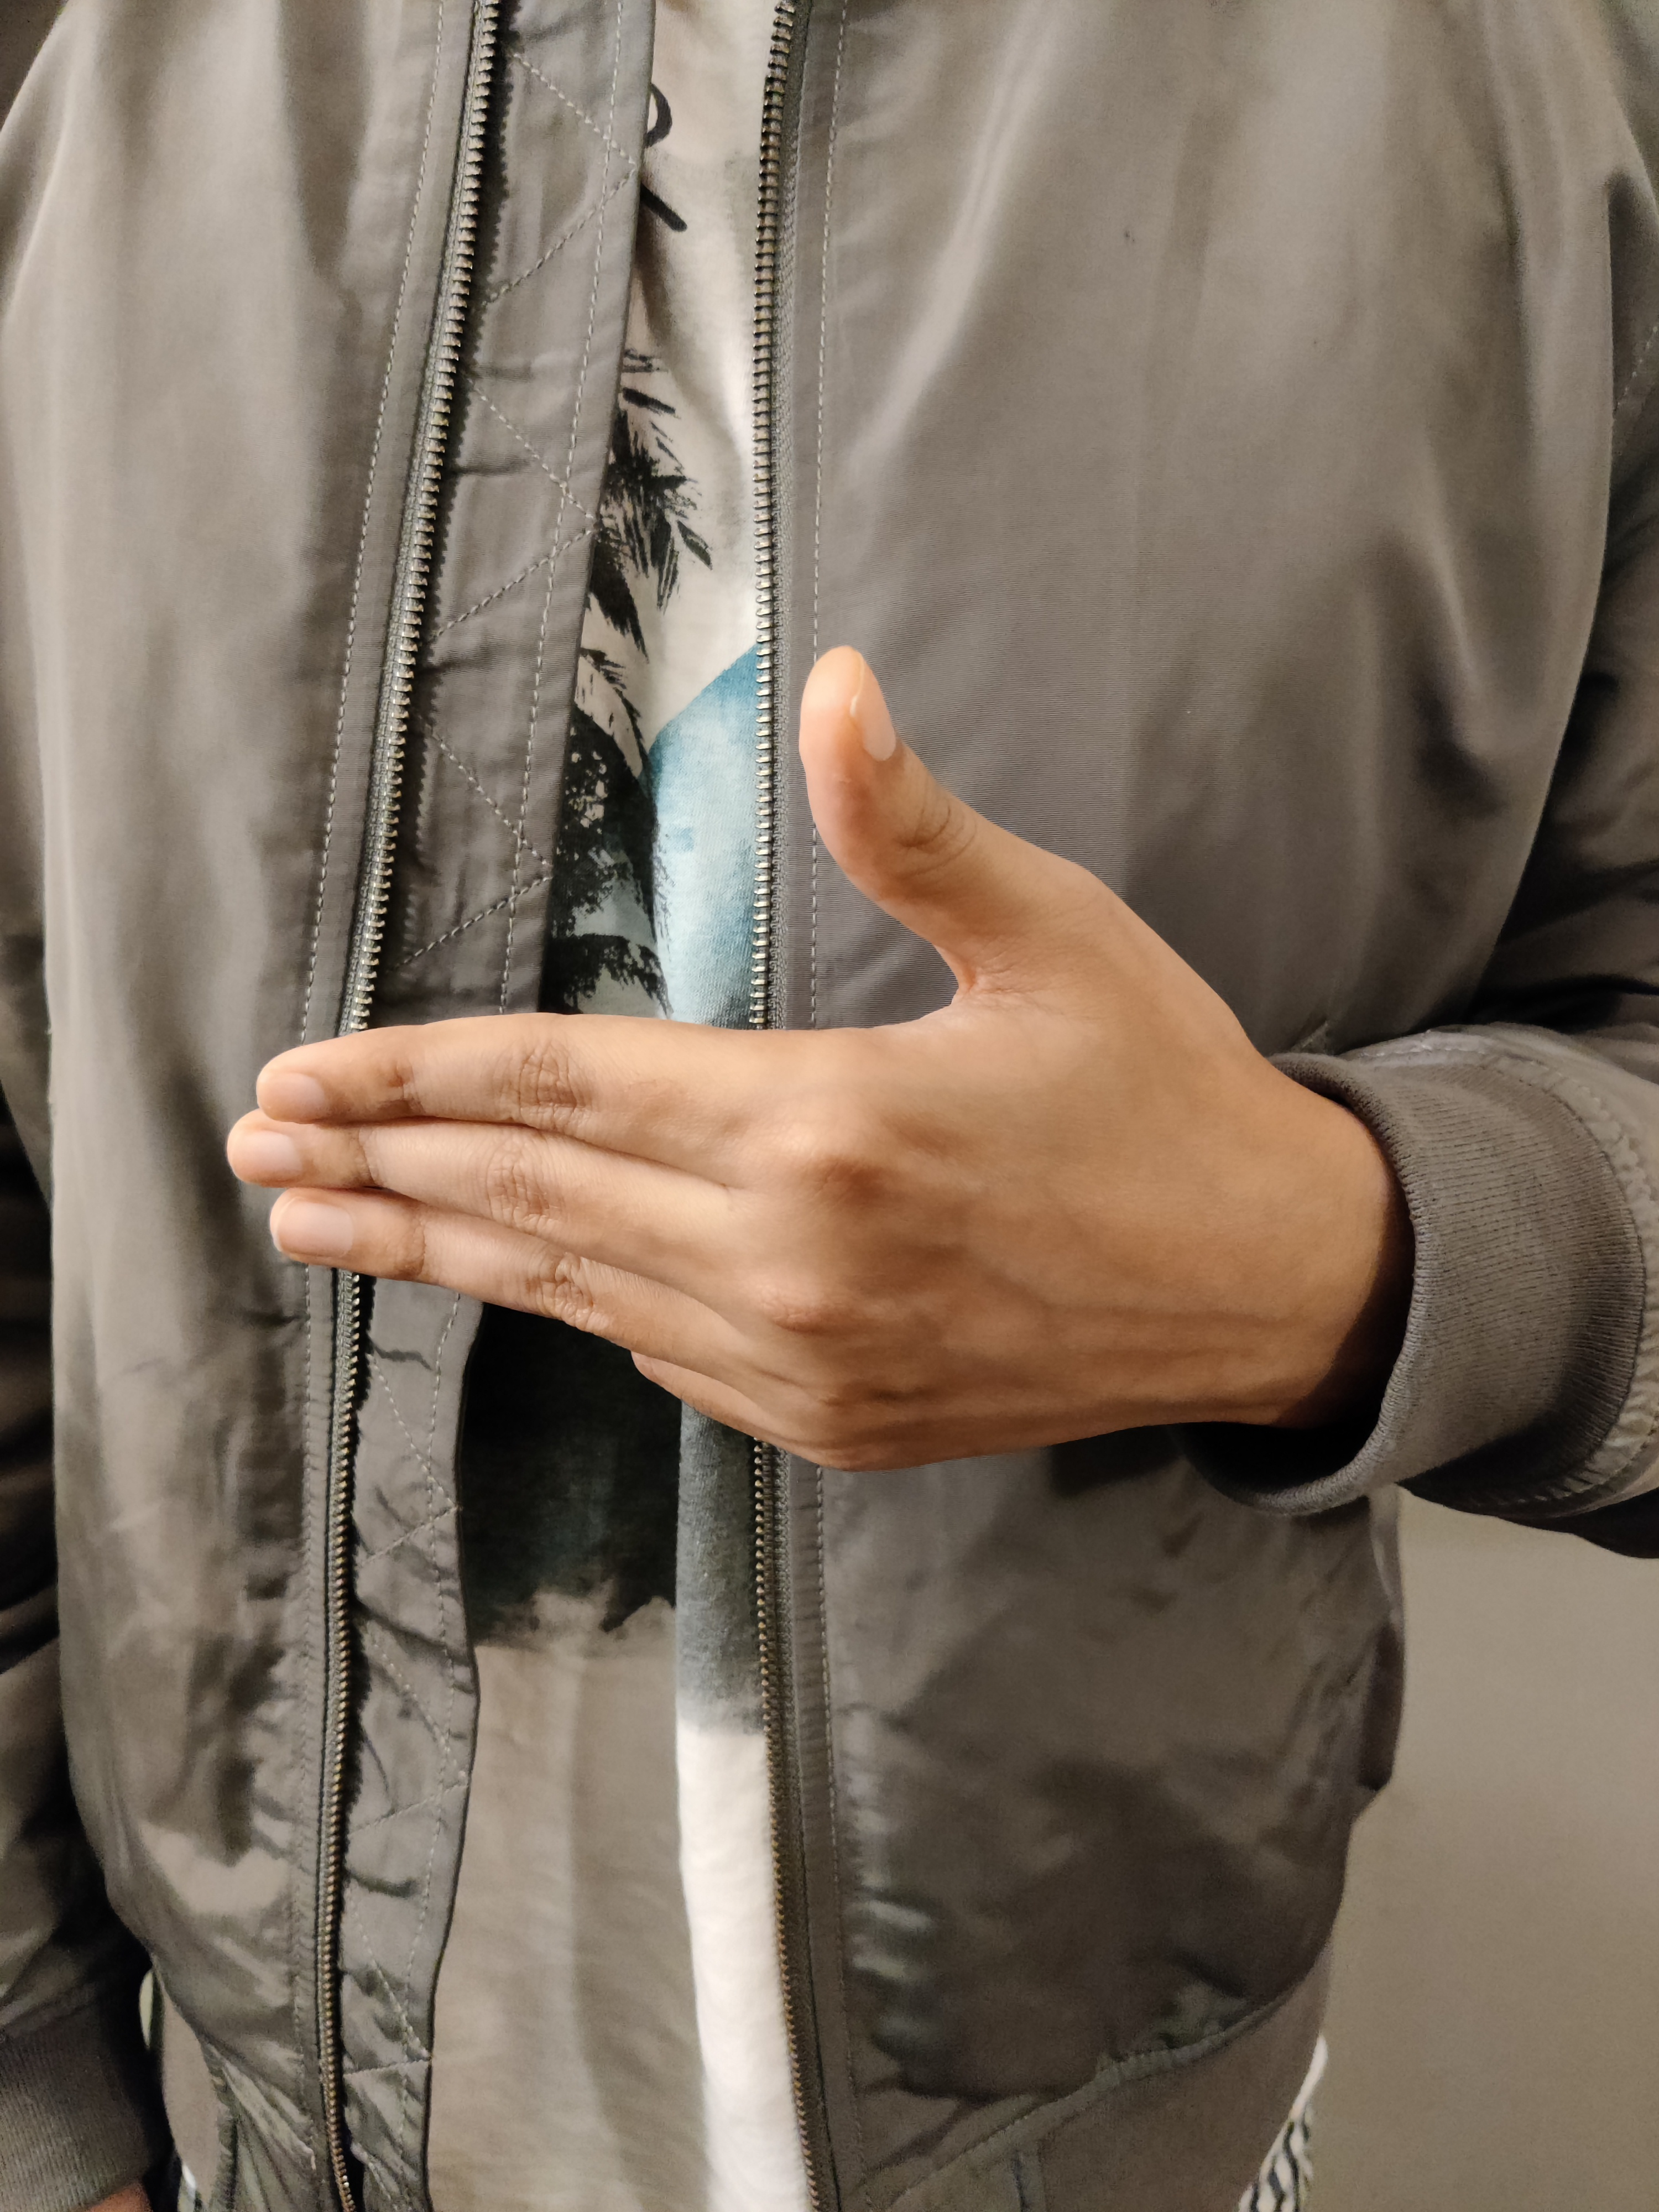right: (94, 570, 1619, 1766)
